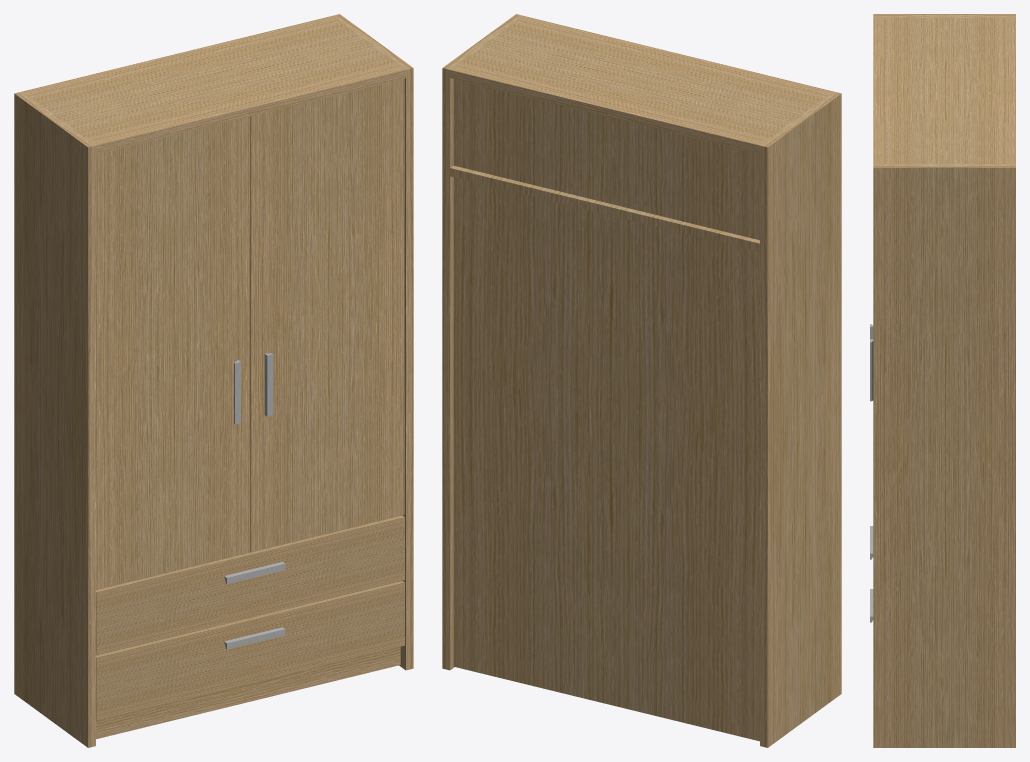
Rendered from Wardrobe.FBX.
3 views of the same model, side by side, from view 1: azimuth 30°, elevation 25°; view 2: azimuth 150°, elevation 25°; view 3: azimuth 270°, elevation 25° (orthographic). The views are drawn at different scales.
Parts seen in each view (by area): view 1: wardrobe, door B, door A, drawer A, drawer B; view 2: wardrobe; view 3: wardrobe.
Part boxes in pixels (x1,y1,x2,y2): wardrobe: [14, 14, 413, 747]; door B: [250, 78, 404, 551]; door A: [96, 116, 249, 589]; drawer A: [96, 515, 404, 655]; drawer B: [96, 581, 404, 720]; wardrobe: [442, 14, 841, 747]; wardrobe: [873, 14, 1015, 747].
Bounding box in the file's own units: 118 × 208 × 47.38.
2 materials, 2 textured.
